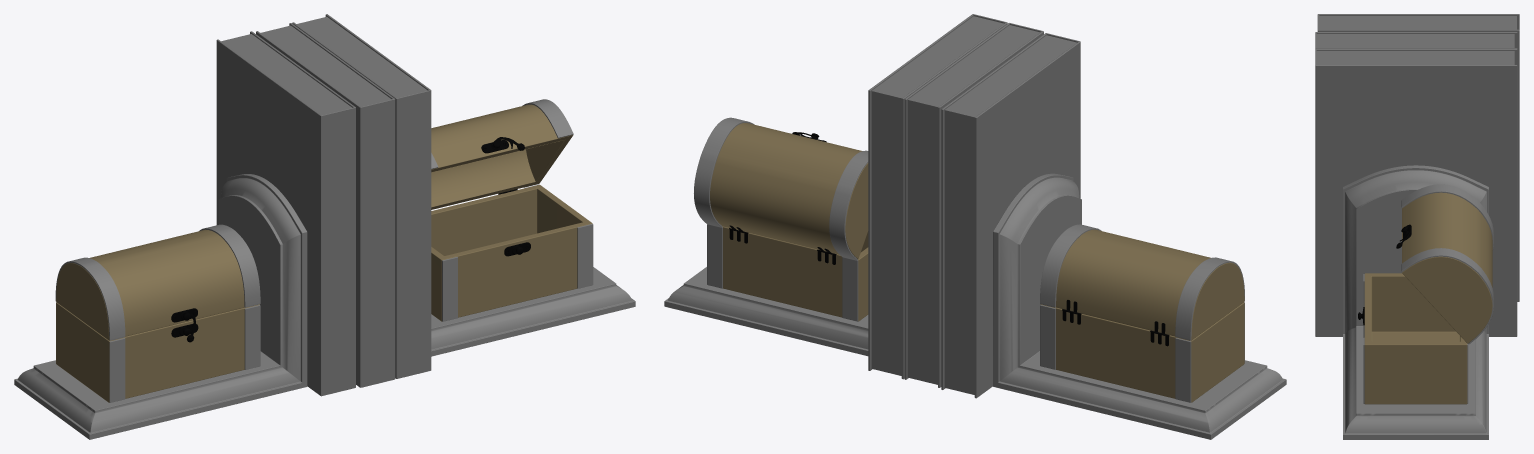
Rendered from Travellers_bookend.FBX.
The picture shows the model from 3 angles, left to right: view 1: azimuth 30°, elevation 25°; view 2: azimuth 150°, elevation 25°; view 3: azimuth 270°, elevation 25°; orthographic projection. The views are drawn at different scales.
Parts seen in each view (by area): view 1: My_Book-004, Sunduk-Platform, My_Book-005, Box3260, My_Book-006, Box3253, Box3252, Box3258, Sunduk-Platform001, Sterling 89-8014/S2 Bookends -1, Box3248, Box3251 (+3 smaller); view 2: My_Book-004, Sunduk-Platform, Box3258, My_Book-005, My_Book-006, Box3253, Box3252, Box3260, Sunduk-Platform001, Sterling 89-8014/S2 Bookends - 2, Sterling 89-8014/S2 Bookends -1, Box3250 (+3 smaller); view 3: My_Book-006, Sunduk-Platform001, Box3260, Box3258, My_Book-004, My_Book-005, Sterling 89-8014/S2 Bookends - 2.
Part boxes in pixels (x1,y1,x2,y2): My_Book-004: (216, 31, 355, 396); Sunduk-Platform: (14, 174, 307, 439); My_Book-005: (256, 23, 395, 387); Box3260: (431, 184, 592, 321); My_Book-006: (292, 14, 431, 378); Box3253: (56, 229, 244, 340); Box3252: (56, 302, 259, 402); Box3258: (431, 104, 573, 209); Sunduk-Platform001: (431, 267, 635, 356); Sterling 89-8014/S2 Bookends -1: (55, 224, 260, 340); Box3248: (244, 305, 260, 369); Box3251: (109, 338, 125, 402); My_Book-004: (941, 33, 1080, 398); Sunduk-Platform: (993, 173, 1286, 439); Box3258: (710, 123, 868, 258); My_Book-005: (904, 23, 1043, 387); My_Book-006: (868, 14, 1007, 379); Box3253: (1056, 229, 1244, 340); Box3252: (1040, 302, 1244, 402); Box3260: (722, 226, 868, 321); Sunduk-Platform001: (664, 267, 868, 356); Sterling 89-8014/S2 Bookends - 2: (694, 117, 868, 260); Sterling 89-8014/S2 Bookends -1: (1040, 224, 1244, 340); Box3250: (1175, 338, 1191, 402); My_Book-006: (1315, 49, 1517, 336); Sunduk-Platform001: (1343, 165, 1488, 439); Box3260: (1364, 273, 1467, 404); Box3258: (1402, 192, 1492, 343); My_Book-004: (1317, 14, 1519, 301); My_Book-005: (1315, 32, 1517, 48); Sterling 89-8014/S2 Bookends - 2: (1401, 184, 1493, 344).
Size of the model in its own units: 531 by 260 by 178.
